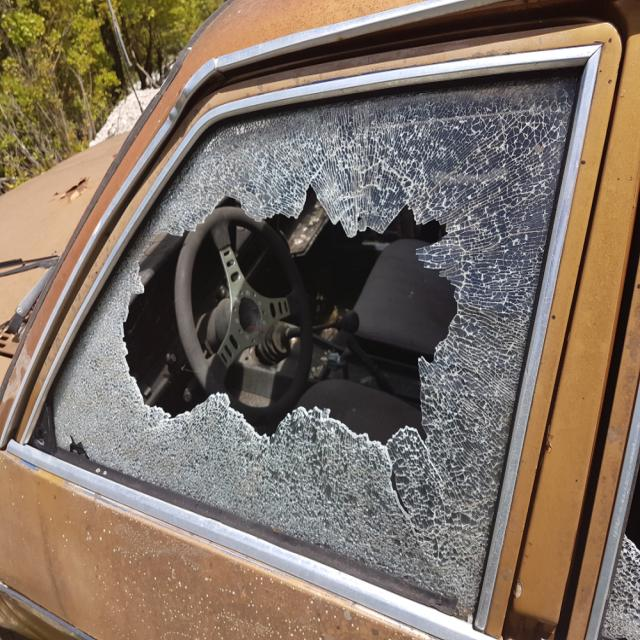glass shatter: (26, 69, 584, 621)
